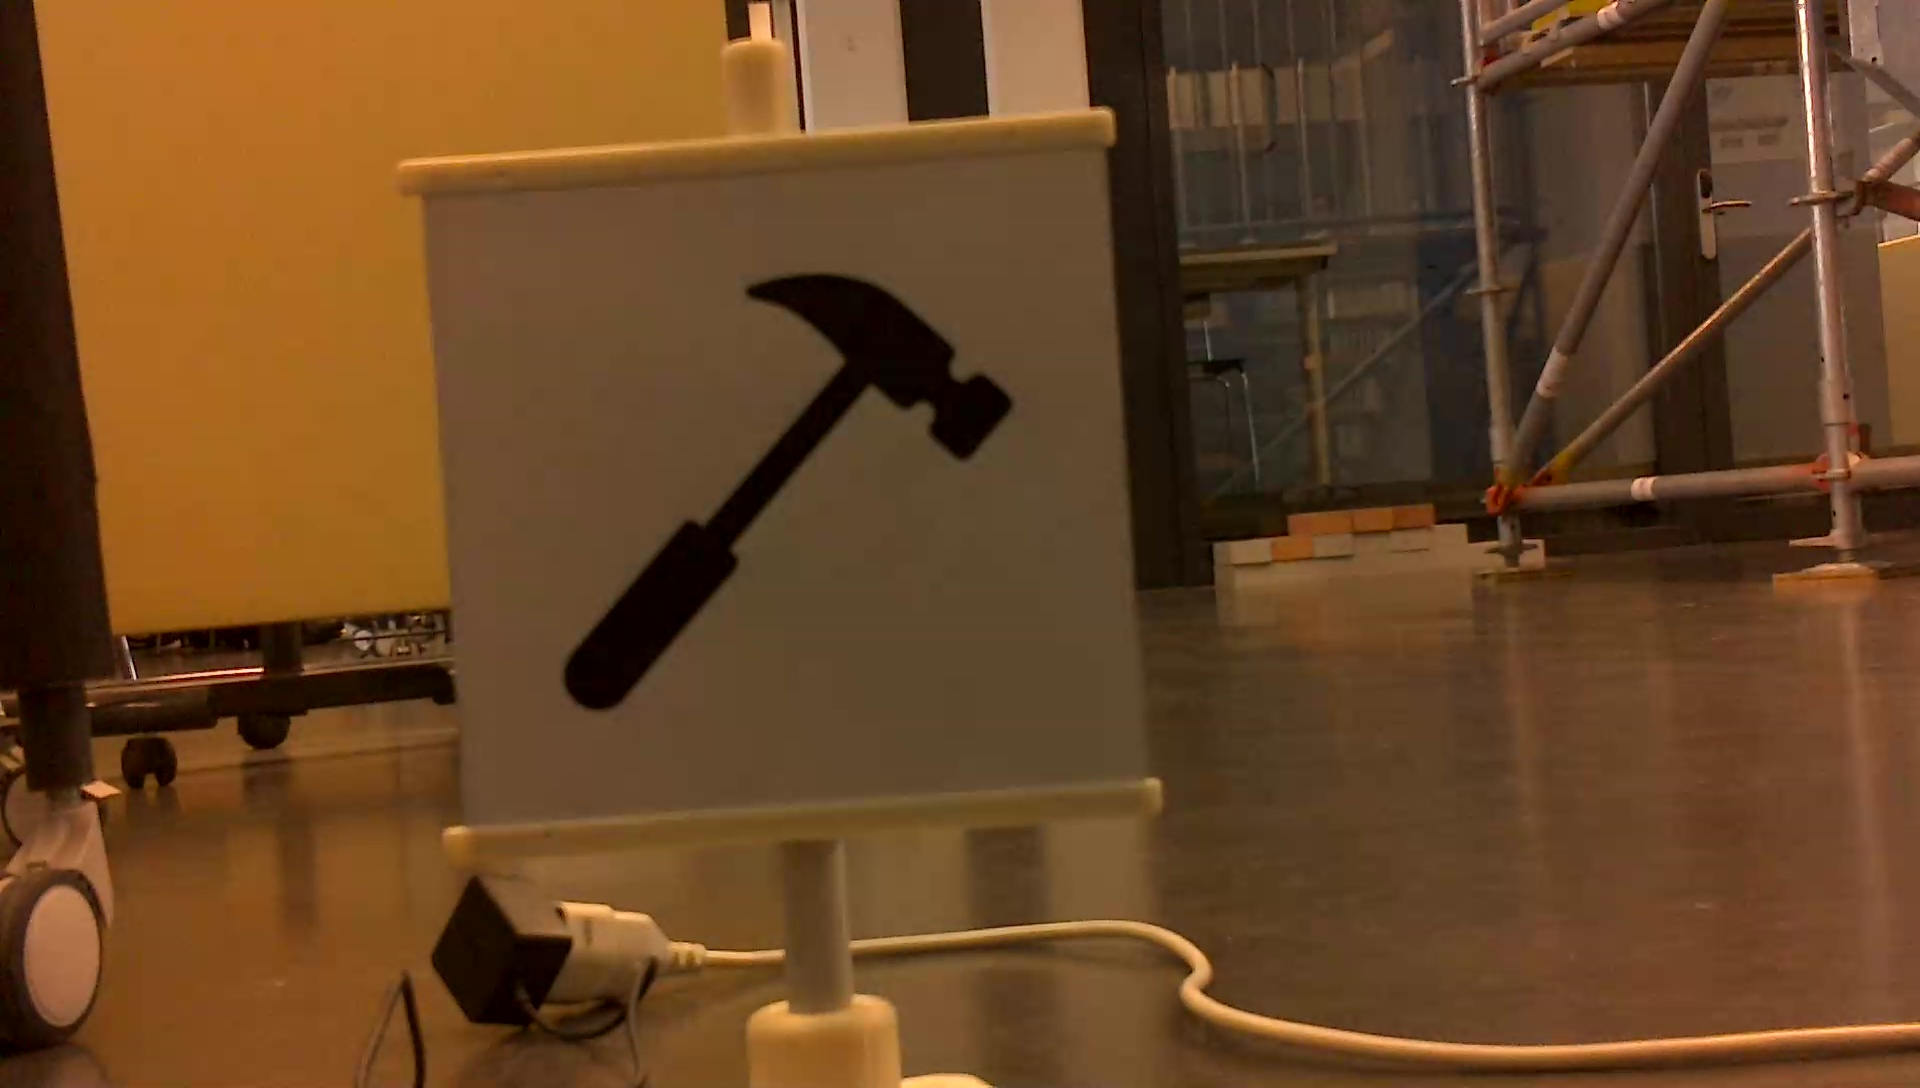hammer: (547, 260, 1022, 725)
